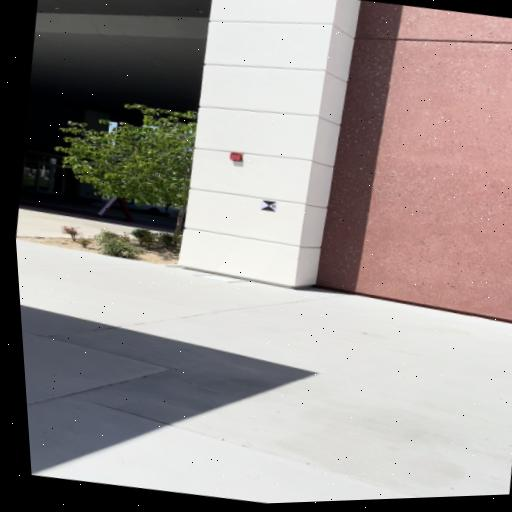target6: (260, 199, 277, 212)
